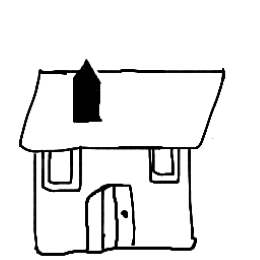bottom_placed_house: (2, 1, 260, 260)
chimney: (57, 51, 110, 129)
door: (81, 172, 135, 257)
open_window: (36, 138, 88, 197), (145, 139, 183, 187)
roof: (4, 59, 236, 156)
wall: (21, 120, 213, 258)
